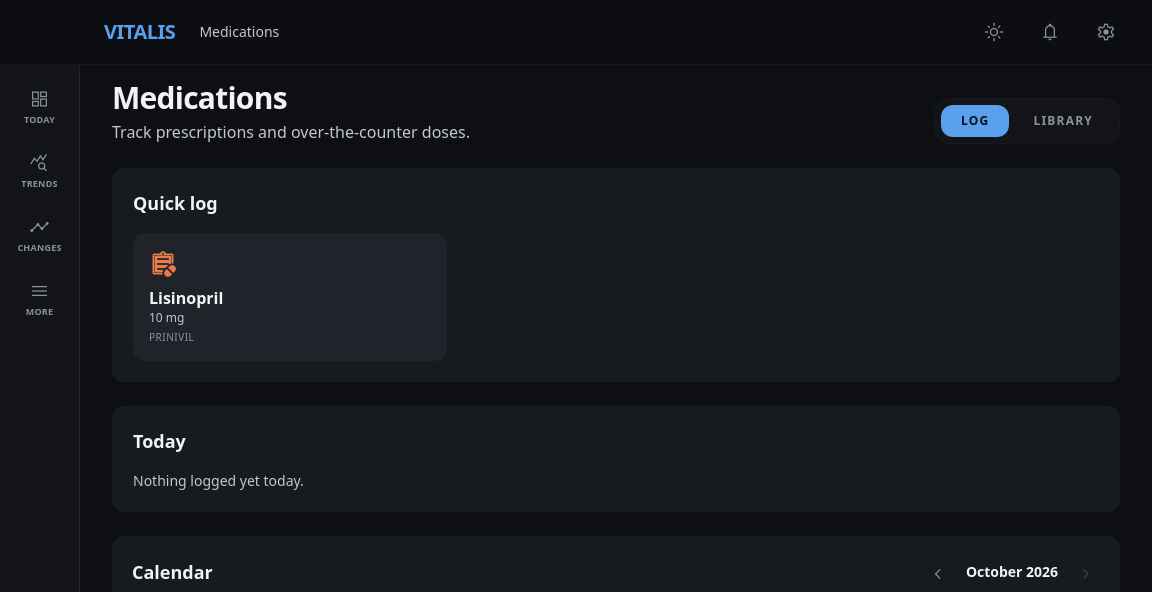
Medications page › renders quick-log cards for active medications and opens the confirm sheet on click
Click the button with aria-label "quick log lisinopril": (186, 298) top-left (133, 233), bottom-right (447, 361)
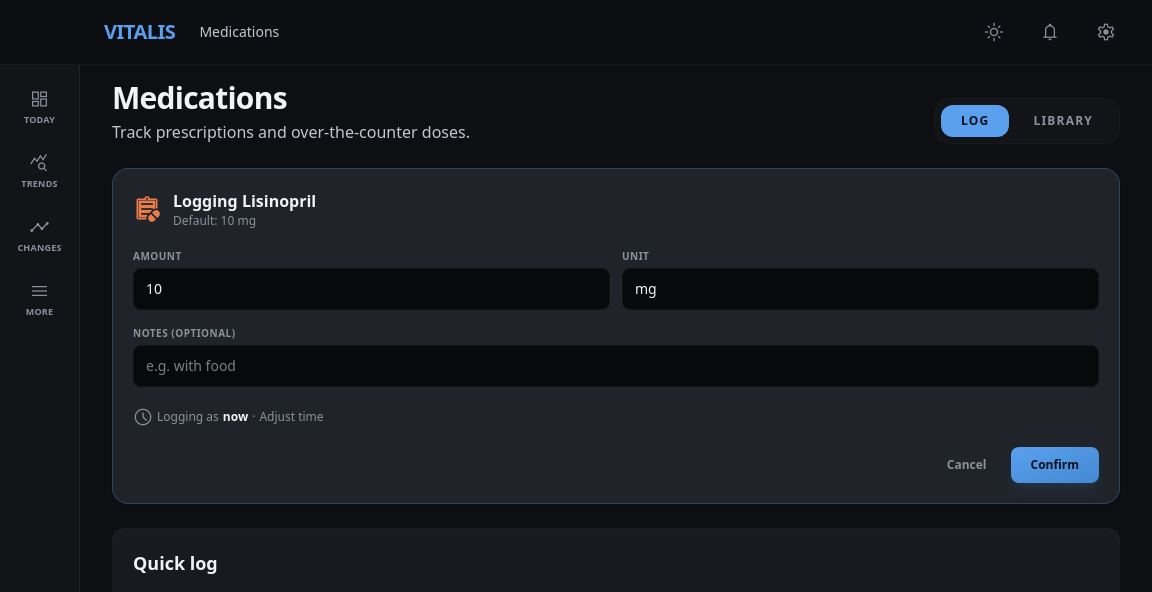
Now the heading "Logging Lisinopril" is shown, box top-left (173, 189), bottom-right (316, 213)
Now the number field labelled "Amount" holds "10", box top-left (133, 268), bottom-right (610, 310)
Now the field labelled "Unit" holds "mg", box top-left (622, 268), bottom-right (1099, 310)
